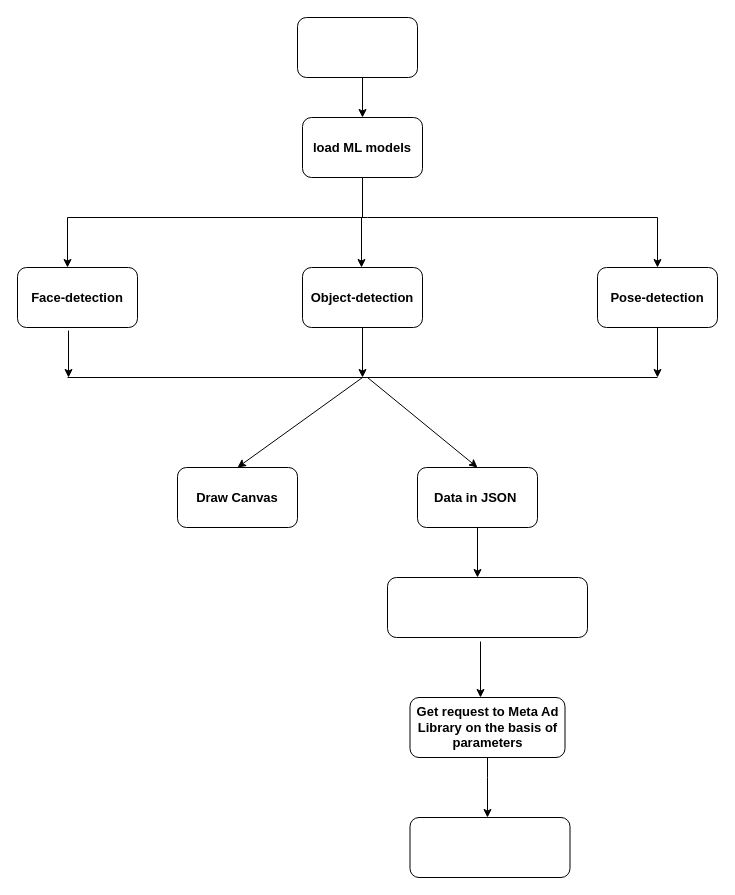
Image size: 735x895. Some labels were removed from this diagram. Each missing label, with the centre of its shape:
Access camera using React-webcam: the point at 357,47
Display advertisement on UI using data from the Ad library: the point at 489,847
Process Information/ deduce parameter like age, gender, emotions, Objects, Pose: the point at 487,607
